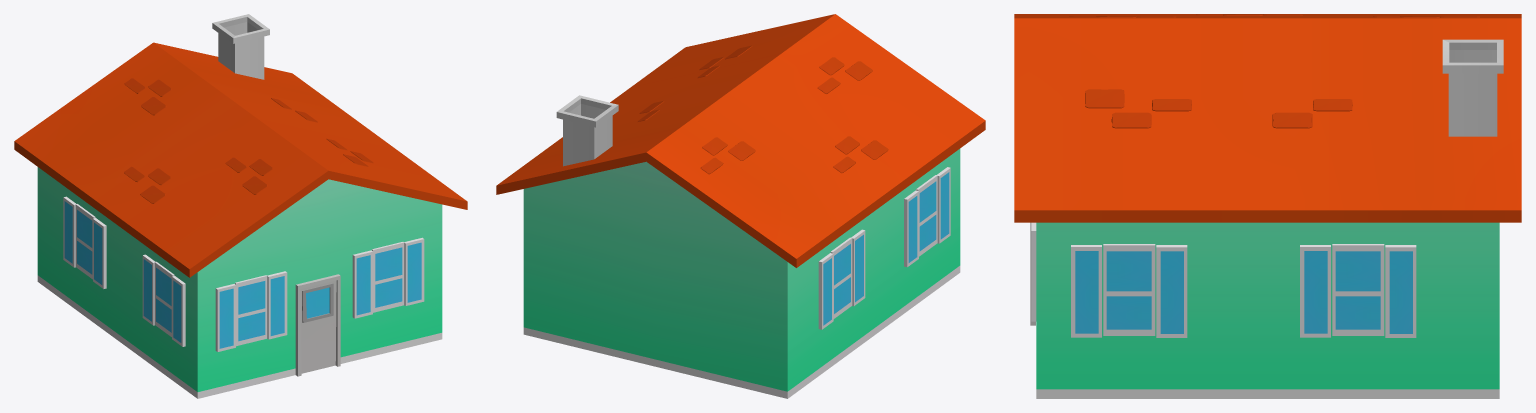
The picture shows the model from 3 angles, left to right: view 1: azimuth 30°, elevation 25°; view 2: azimuth 150°, elevation 25°; view 3: azimuth 270°, elevation 25°; orthographic projection. The views are drawn at different scales.
Visible parts, largest first — view 1: EV_3; view 2: EV_3; view 3: EV_3.
Part boxes in pixels (bbox=[...]): EV_3: bbox=[14, 14, 467, 398]; EV_3: bbox=[496, 14, 985, 398]; EV_3: bbox=[1014, 14, 1521, 398].
Size of the model in its own units: 632 by 467 by 690.
